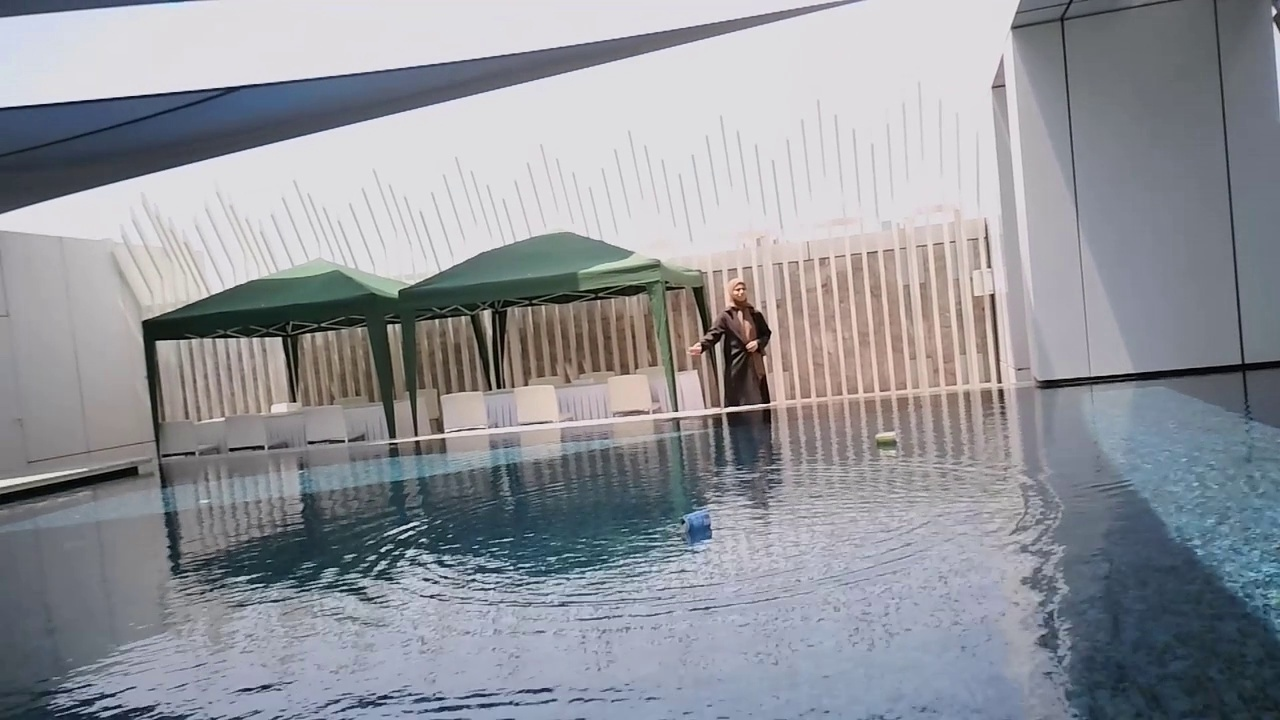debris: (675, 507, 714, 538), (873, 428, 902, 449)
